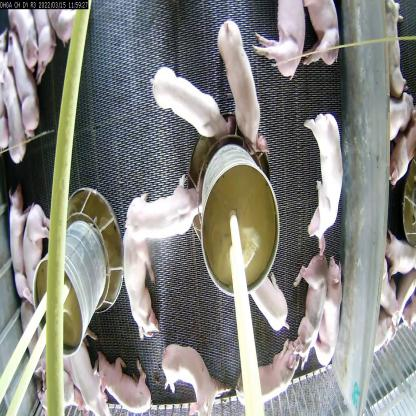Pig: (214, 9, 270, 158), (149, 55, 226, 148), (219, 334, 308, 407), (126, 171, 202, 247), (305, 110, 347, 242), (92, 336, 158, 416), (115, 221, 159, 339), (2, 24, 47, 136), (8, 7, 57, 104), (6, 180, 42, 311), (18, 194, 58, 307), (293, 246, 329, 365), (160, 342, 220, 410), (316, 260, 351, 376), (239, 269, 296, 339), (263, 0, 306, 84), (0, 51, 27, 172), (56, 344, 102, 415)
